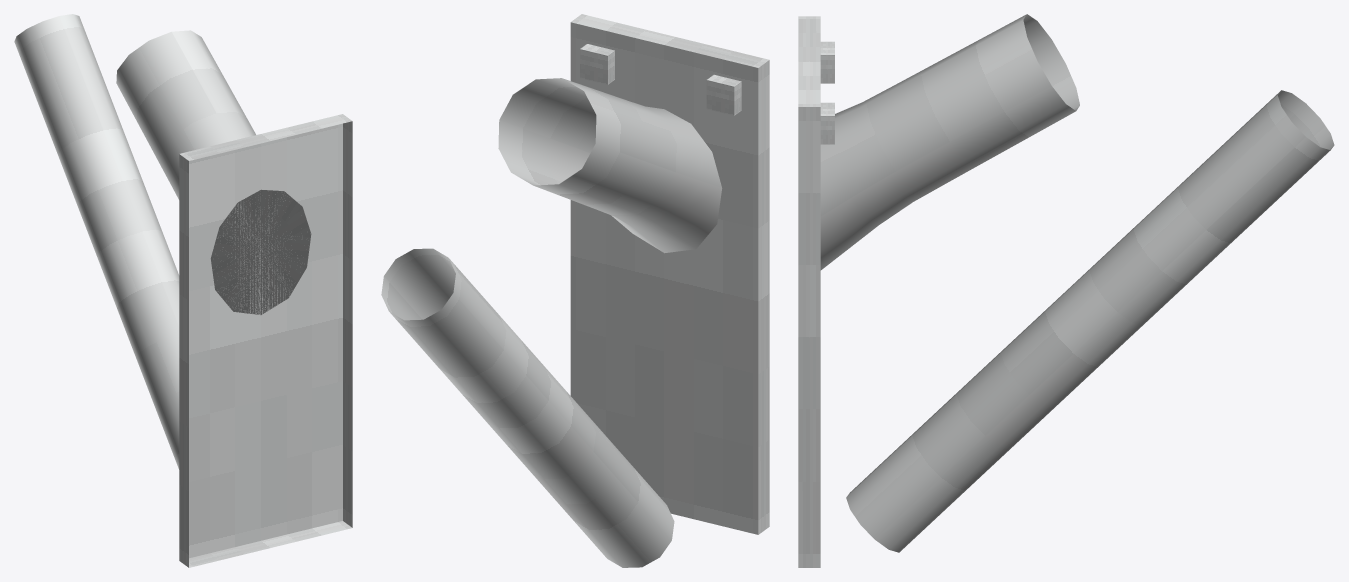
File: luminairearm_truss8ftstraightdouble_c0_wall.obj
The picture shows the model from 3 angles, left to right: view 1: azimuth 30°, elevation 25°; view 2: azimuth 150°, elevation 25°; view 3: azimuth 270°, elevation 25°; orthographic projection. The views are drawn at different scales.
Visible parts, largest first — view 1: luminairearm_truss8ftstraightdouble_c0_wall; view 2: luminairearm_truss8ftstraightdouble_c0_wall; view 3: luminairearm_truss8ftstraightdouble_c0_wall.
Boxes of the visible parts, box(x1,y1,x2,y2) form: luminairearm_truss8ftstraightdouble_c0_wall: box(14, 14, 352, 567); luminairearm_truss8ftstraightdouble_c0_wall: box(381, 14, 769, 567); luminairearm_truss8ftstraightdouble_c0_wall: box(798, 14, 1334, 567).
Size of the model in its own units: 0.4219 by 1.15 by 1.06.
